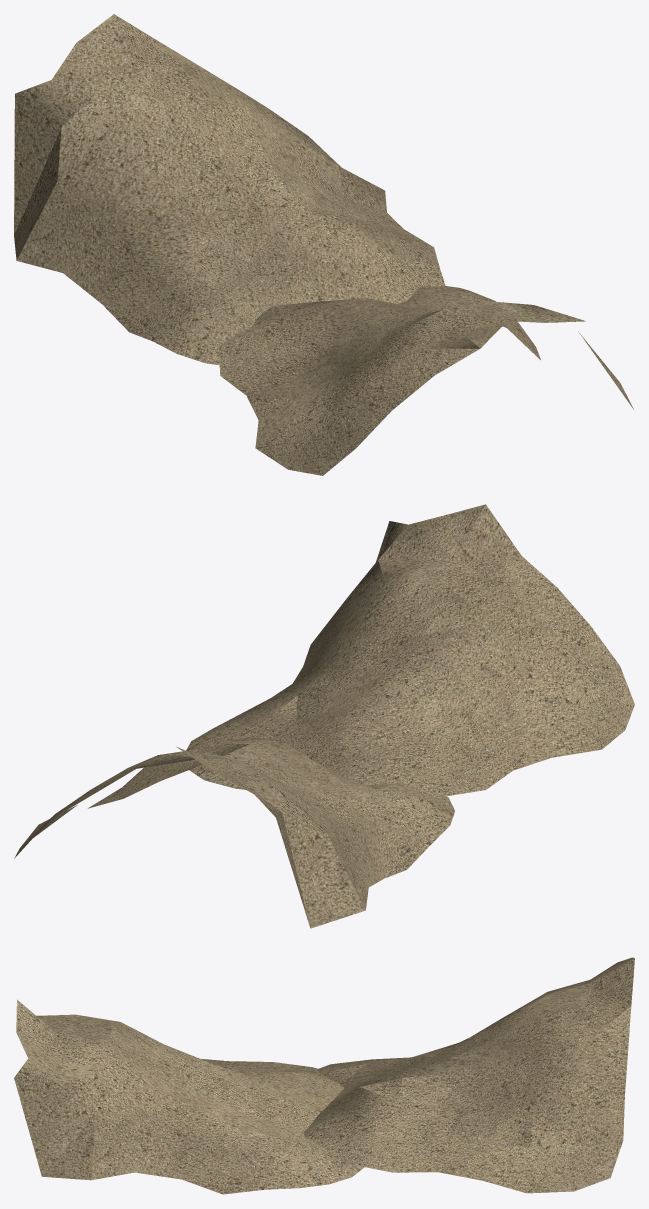
The model's file is tw2_5_dun_addon_01_3-transformed.glb.
3 views of the same model, one above another, from view 1: azimuth 30°, elevation 25°; view 2: azimuth 150°, elevation 25°; view 3: azimuth 270°, elevation 25° (orthographic). The views are drawn at different scales.
Visible parts, largest first — view 1: 5_DUN_ADDONS_01_3; view 2: 5_DUN_ADDONS_01_3; view 3: 5_DUN_ADDONS_01_3.
Boxes of the visible parts, x1=… form: 5_DUN_ADDONS_01_3: x1=14, y1=14, x2=633, y2=475; 5_DUN_ADDONS_01_3: x1=14, y1=504, x2=634, y2=928; 5_DUN_ADDONS_01_3: x1=14, y1=957, x2=634, y2=1194.
Size of the model in its own units: 3.04 by 1.59 by 5.43.
1 material, 1 textured.
